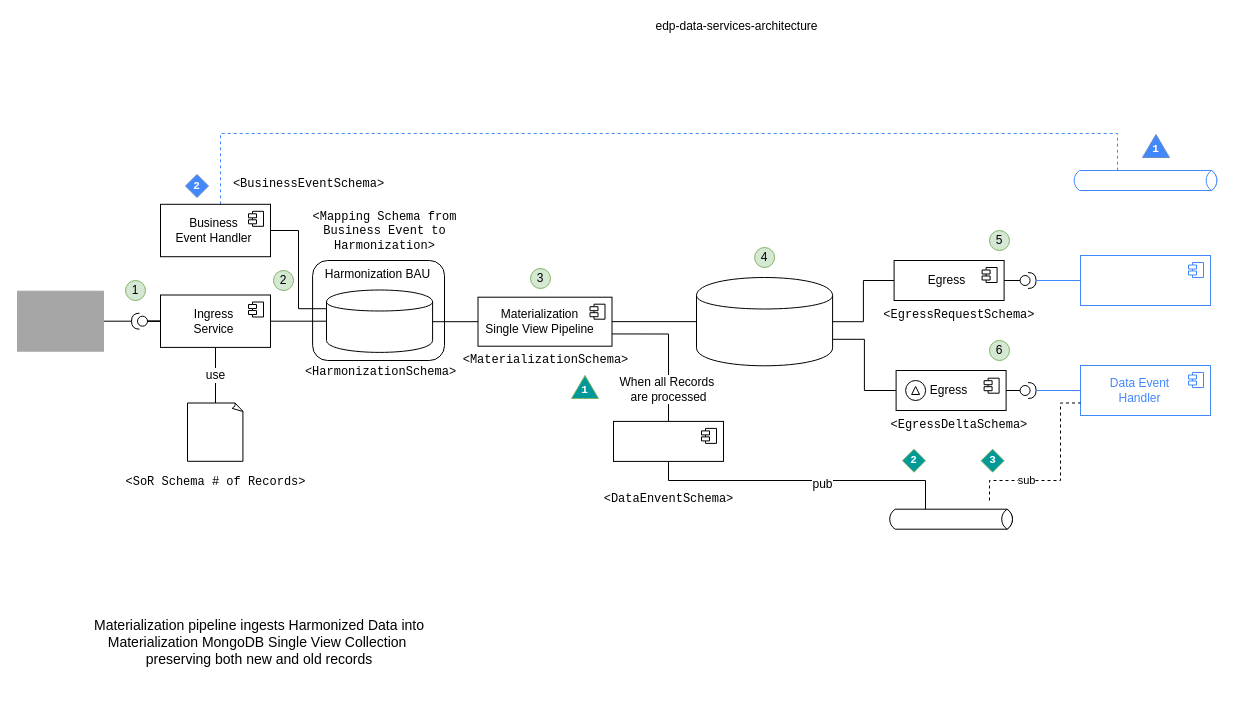
Some shapes in this 1237 by 707 pixel diagram are drawn without their labels. The box of each missing label's shape, as (x1, y1, x2, y2) in pixels:
Business Event Bus: (1070, 170, 1220, 190)
Data Event Bus: (886, 508, 1015, 529)
Data Event Controller: (612, 420, 724, 461)
Data Ingress: (1080, 254, 1210, 306)
Harmonized Data: (326, 289, 433, 352)
Single View Materialized Collection for Data Services: (696, 276, 833, 366)
SoR Data: (186, 402, 244, 461)
Systems of Record: (16, 290, 104, 351)
